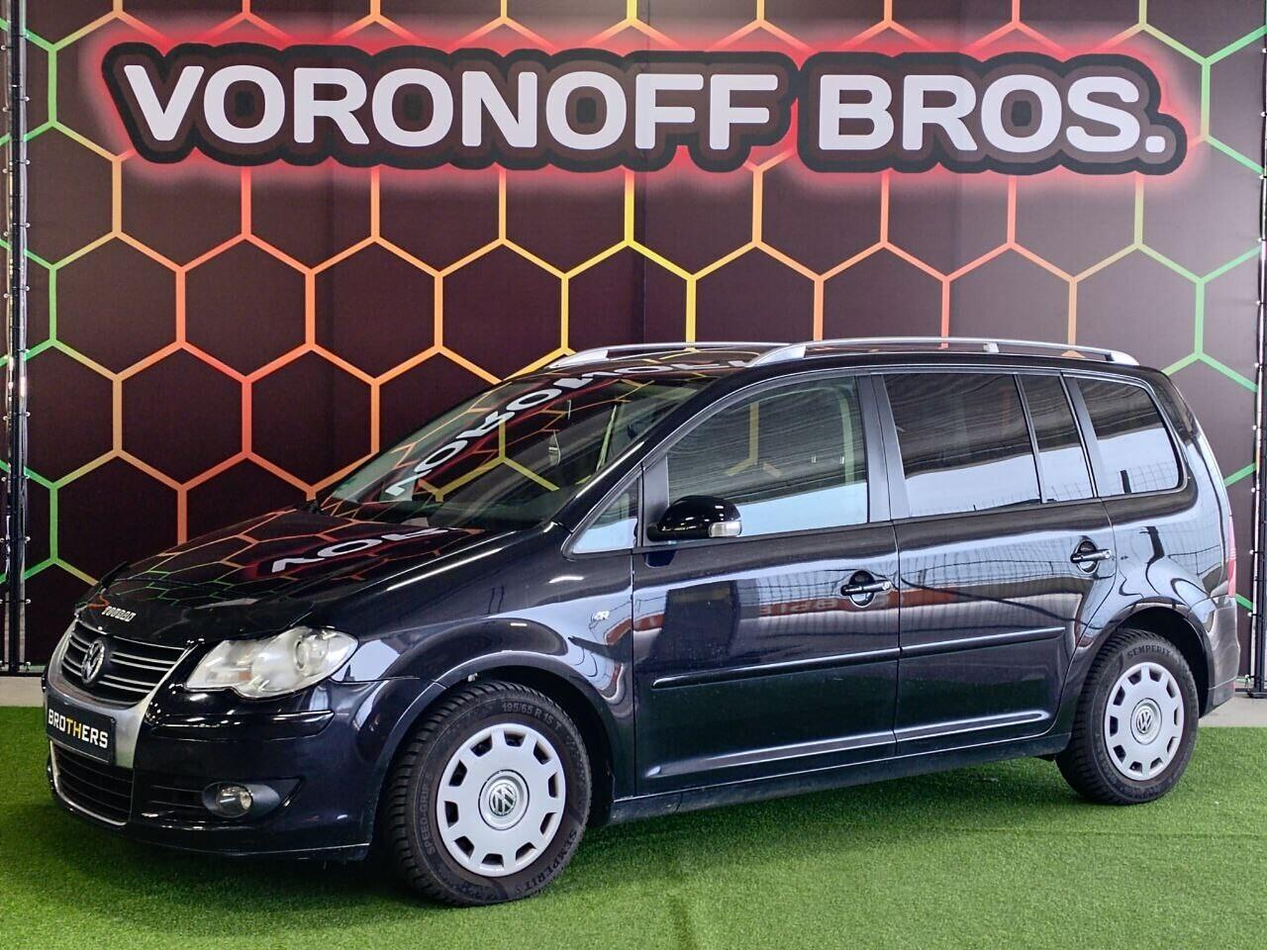Touran_2006-2010: (41, 340, 1246, 899)
